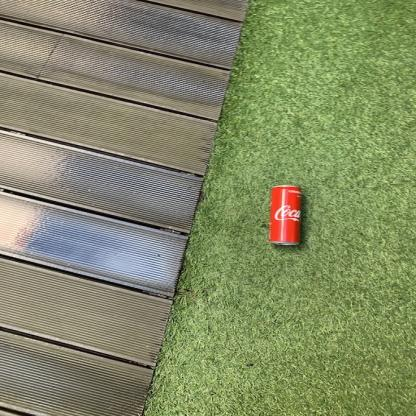trash: (266, 180, 309, 254)
